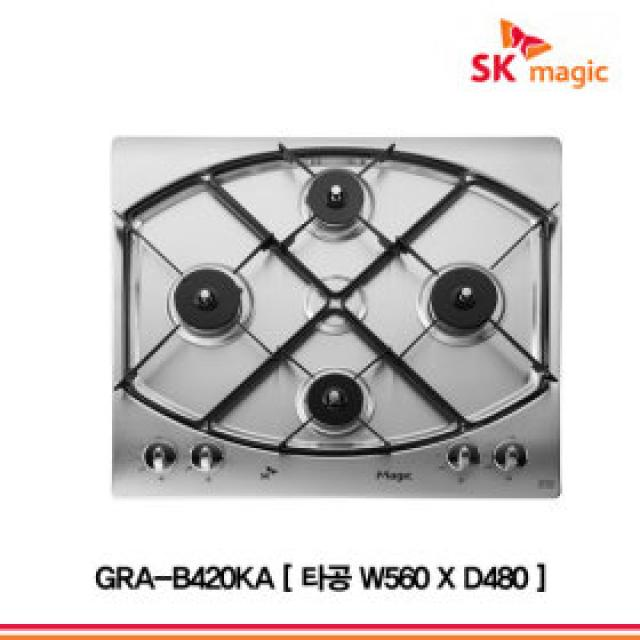knob_ON: (121, 144, 557, 487)
